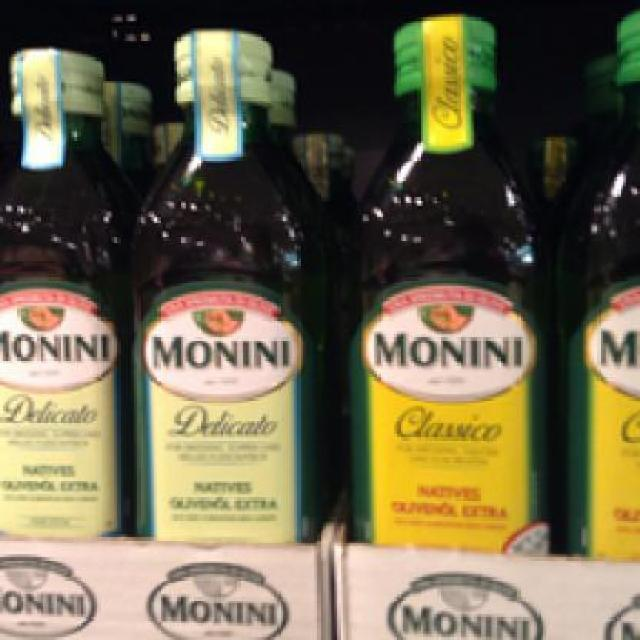Oil: (328, 11, 554, 546), (132, 29, 318, 540), (0, 46, 129, 532)
